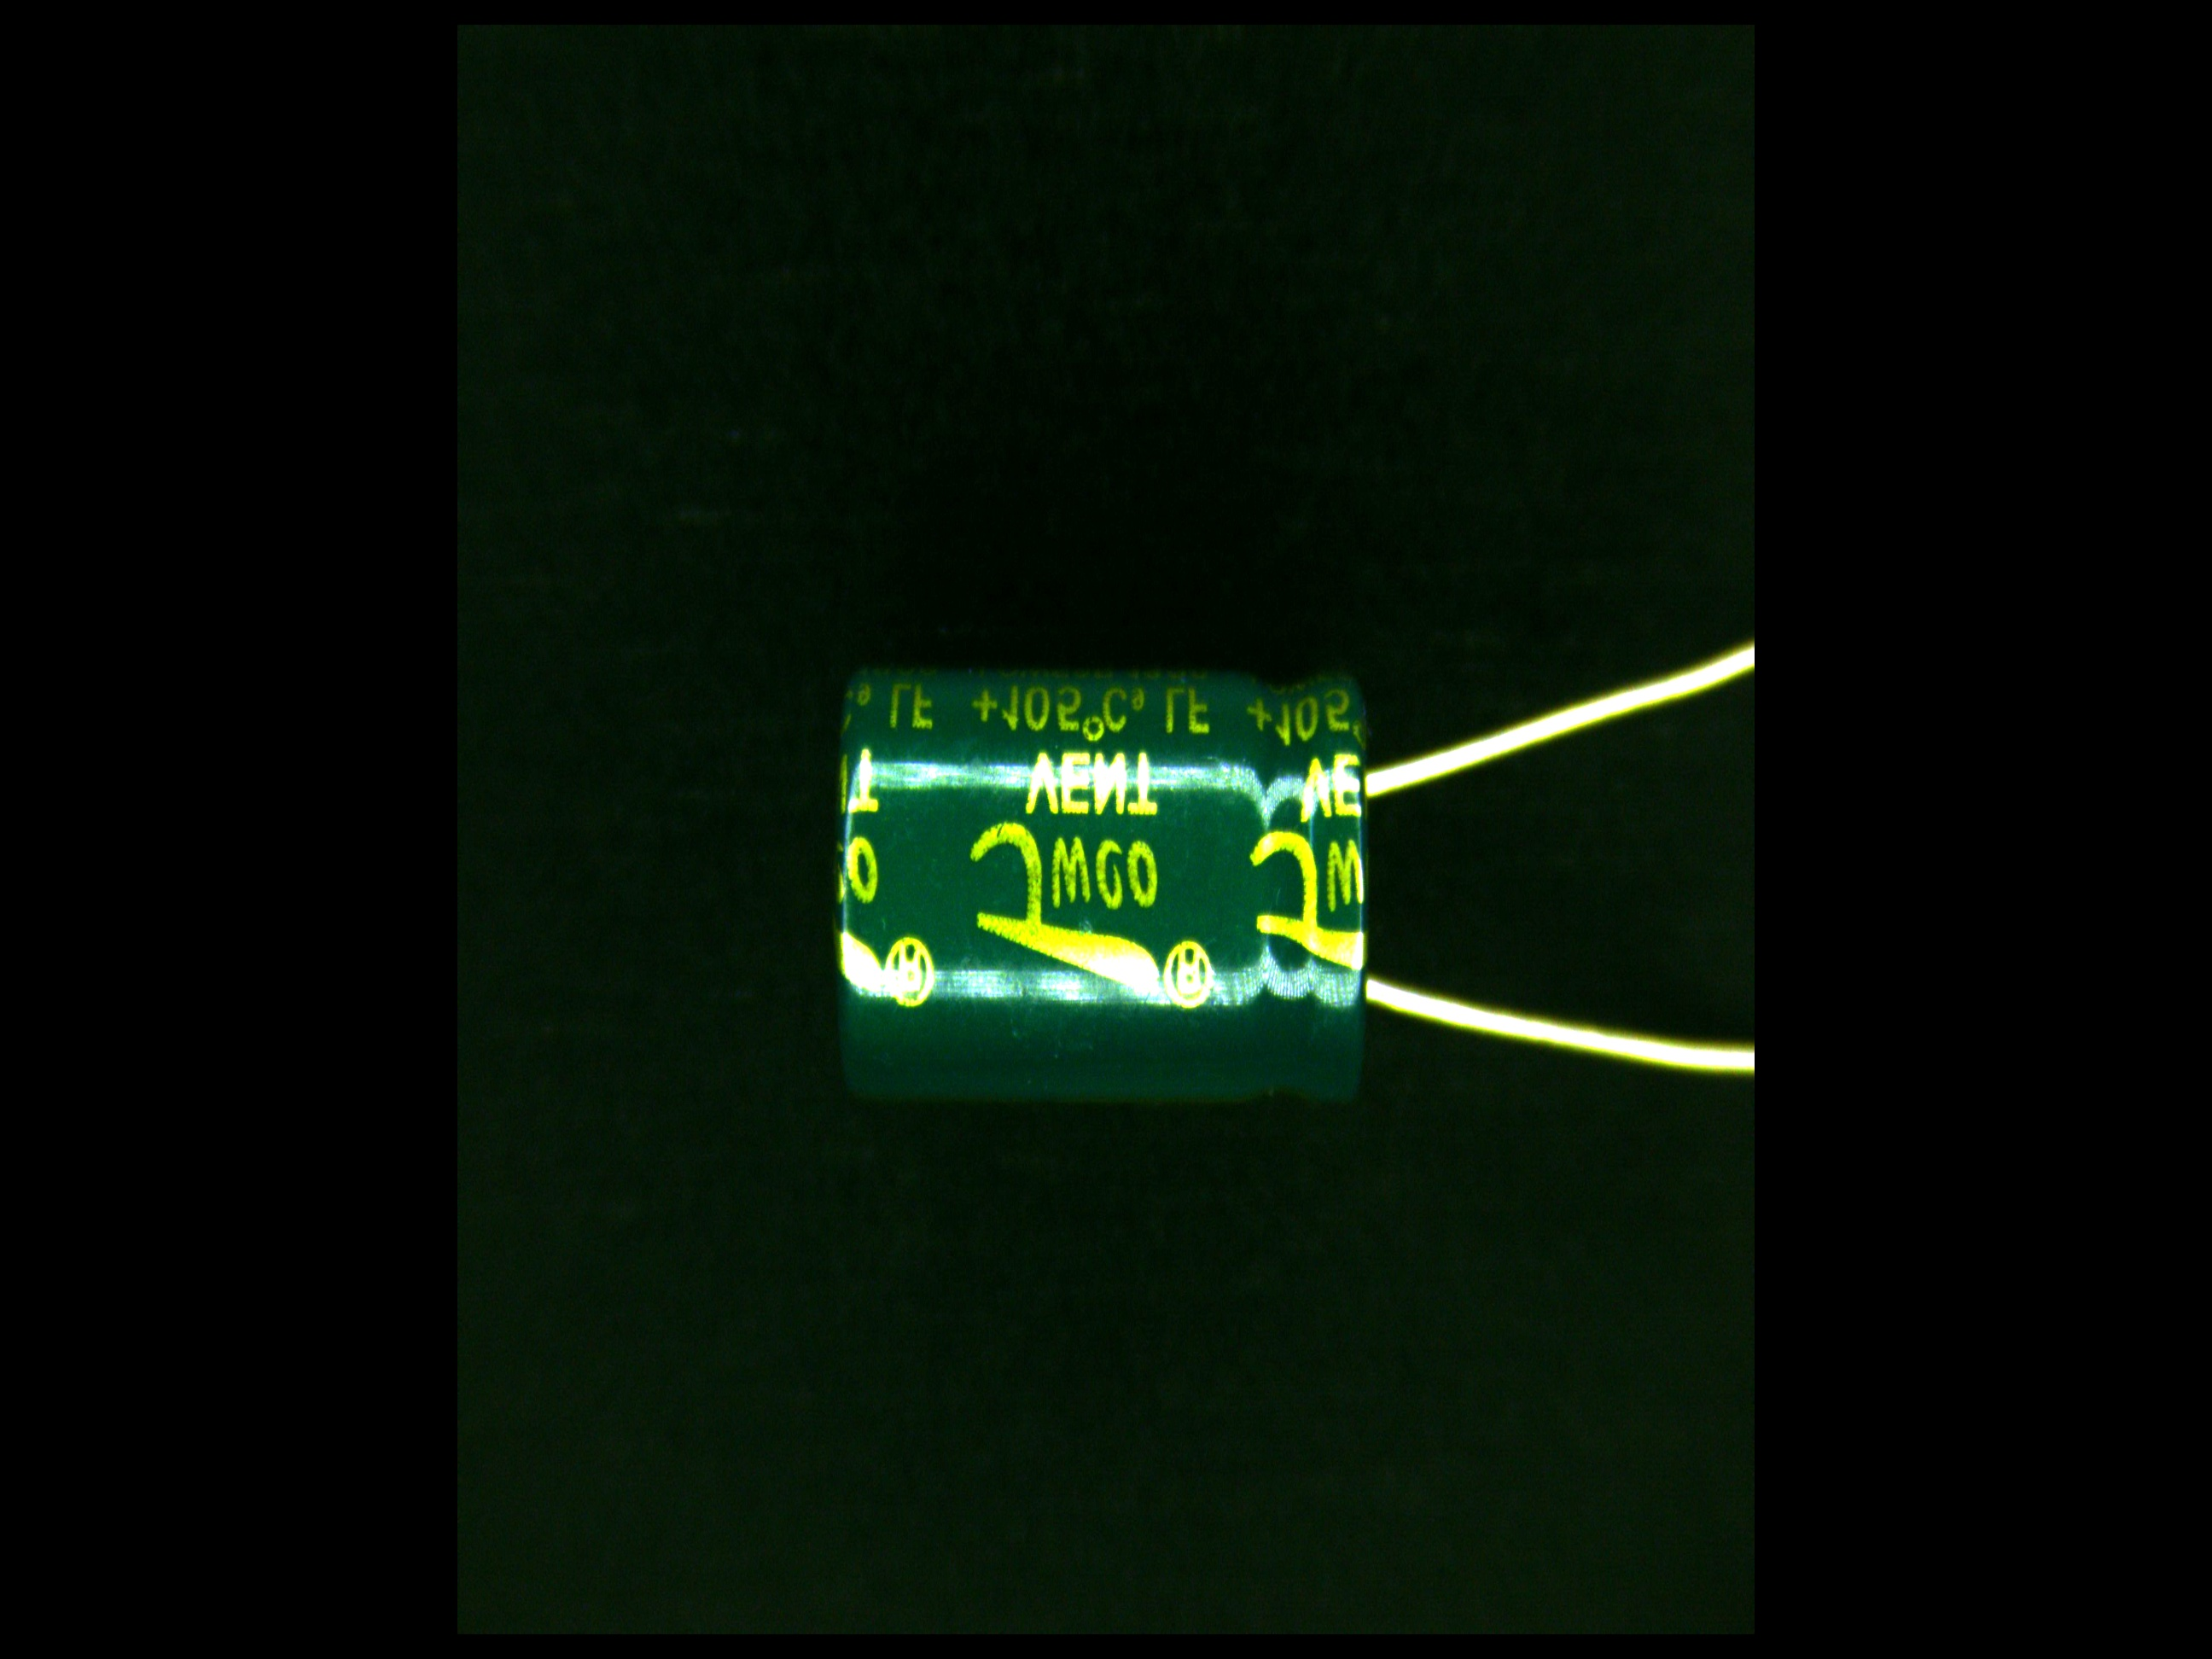c1: (833, 660, 1449, 1103)
